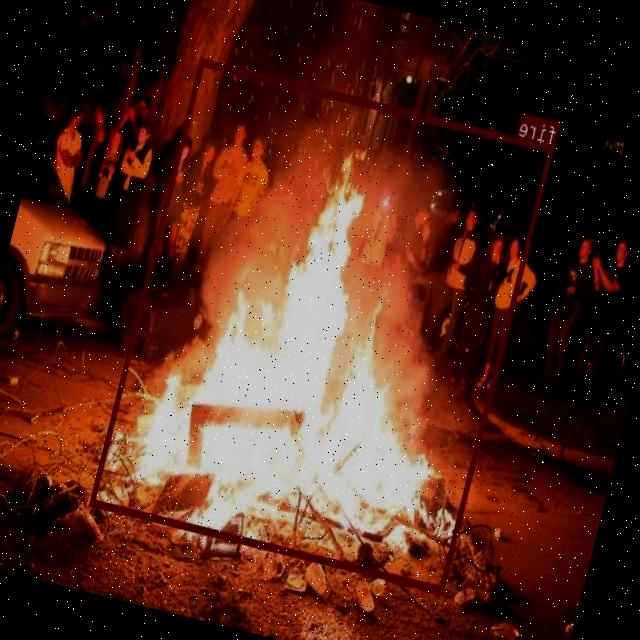fire: (90, 57, 556, 592)
